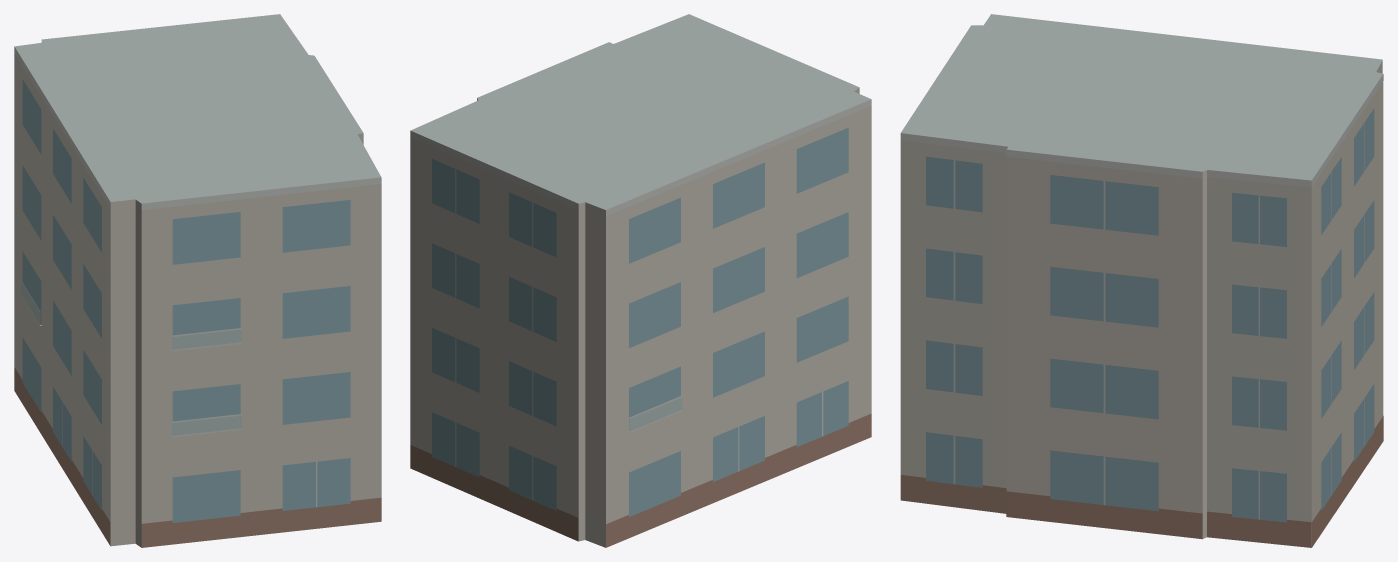
The model's file is survey-upis-32740922.glb.
3 views of the same model, side by side, from view 1: azimuth 30°, elevation 25°; view 2: azimuth 150°, elevation 25°; view 3: azimuth 270°, elevation 25° (orthographic). The views are drawn at different scales.
Parts seen in each view (by area): view 1: survey-upis-32740922.tmp; view 2: survey-upis-32740922.tmp; view 3: survey-upis-32740922.tmp.
Boxes of the visible parts, box(x1,y1,x2,y2) form: survey-upis-32740922.tmp: box(14, 14, 381, 547); survey-upis-32740922.tmp: box(410, 14, 871, 547); survey-upis-32740922.tmp: box(900, 14, 1383, 547).
Size of the model in its own units: 12.45 by 12.8 by 15.26.
